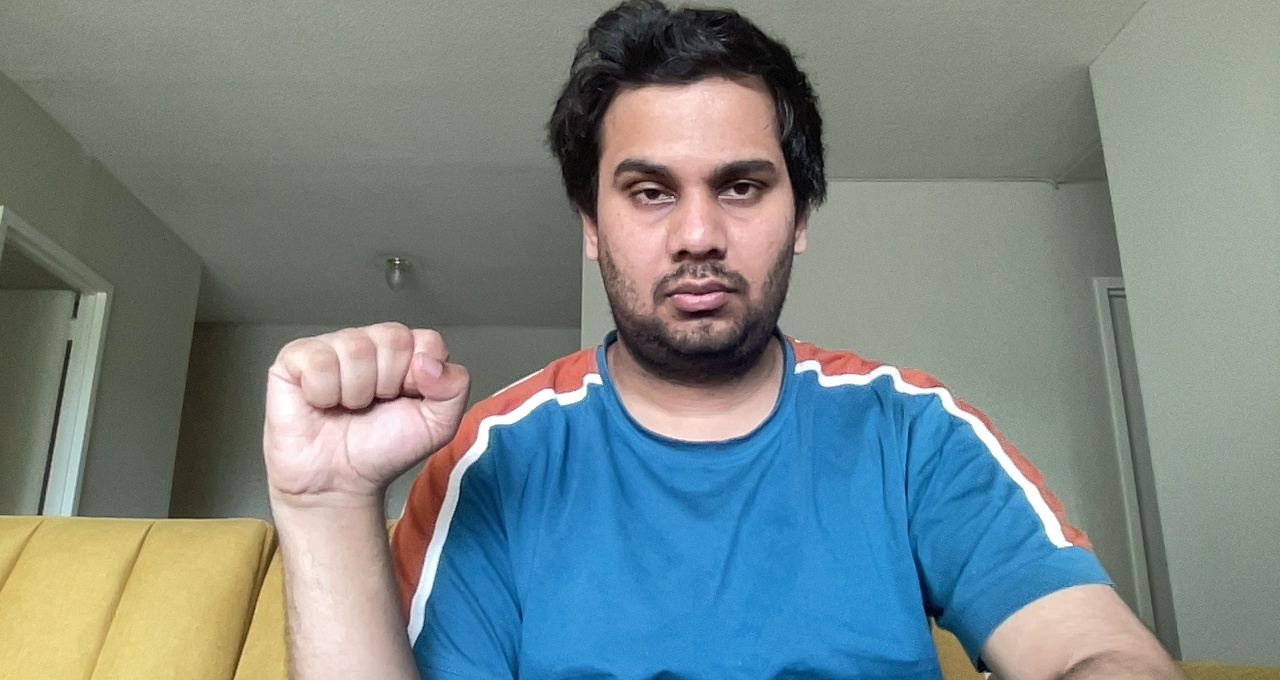closedfist: (253, 322, 478, 502)
